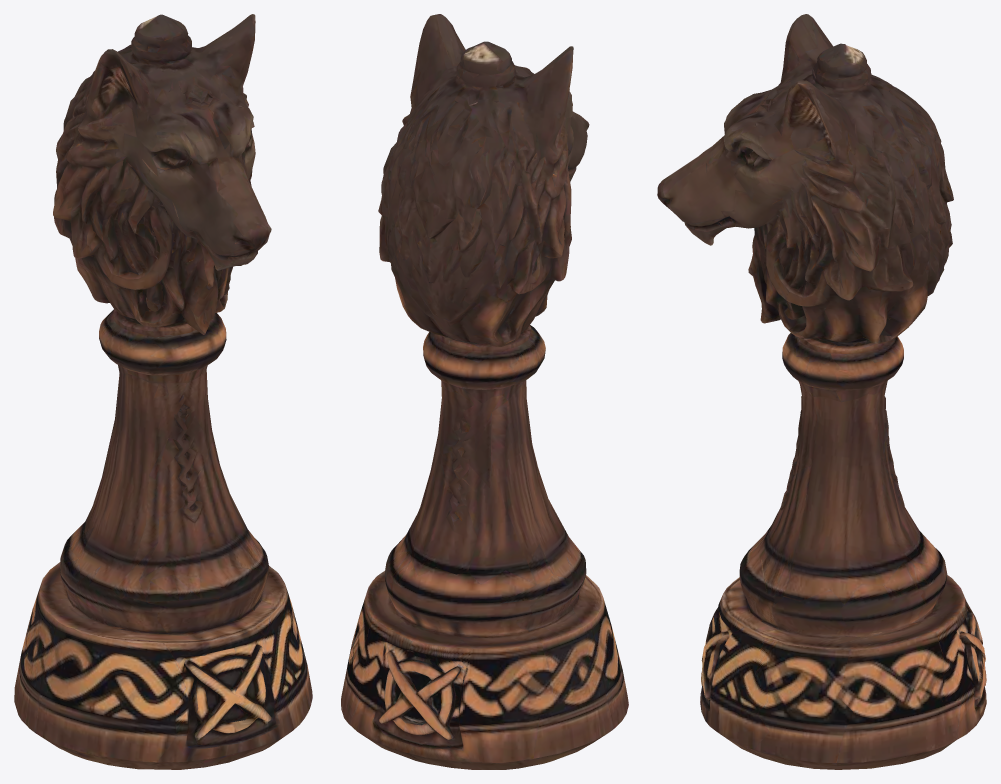
Rendered from piece-raider.glb.
3 renders of one model, left to right at view 1: azimuth 30°, elevation 25°; view 2: azimuth 150°, elevation 25°; view 3: azimuth 270°, elevation 25°, orthographic. The views are drawn at different scales.
Size of the model in its own units: 0.741 by 1.9 by 0.8412.
Materials: 1 (1 with a texture image).
